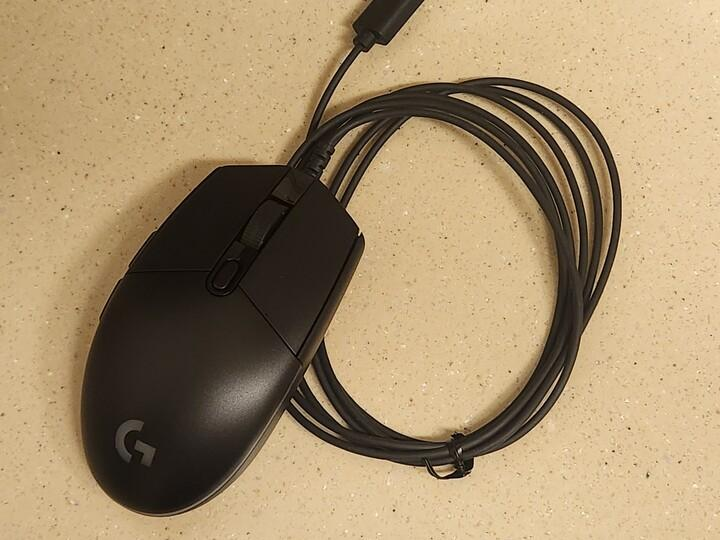mouse: (78, 162, 365, 517)
